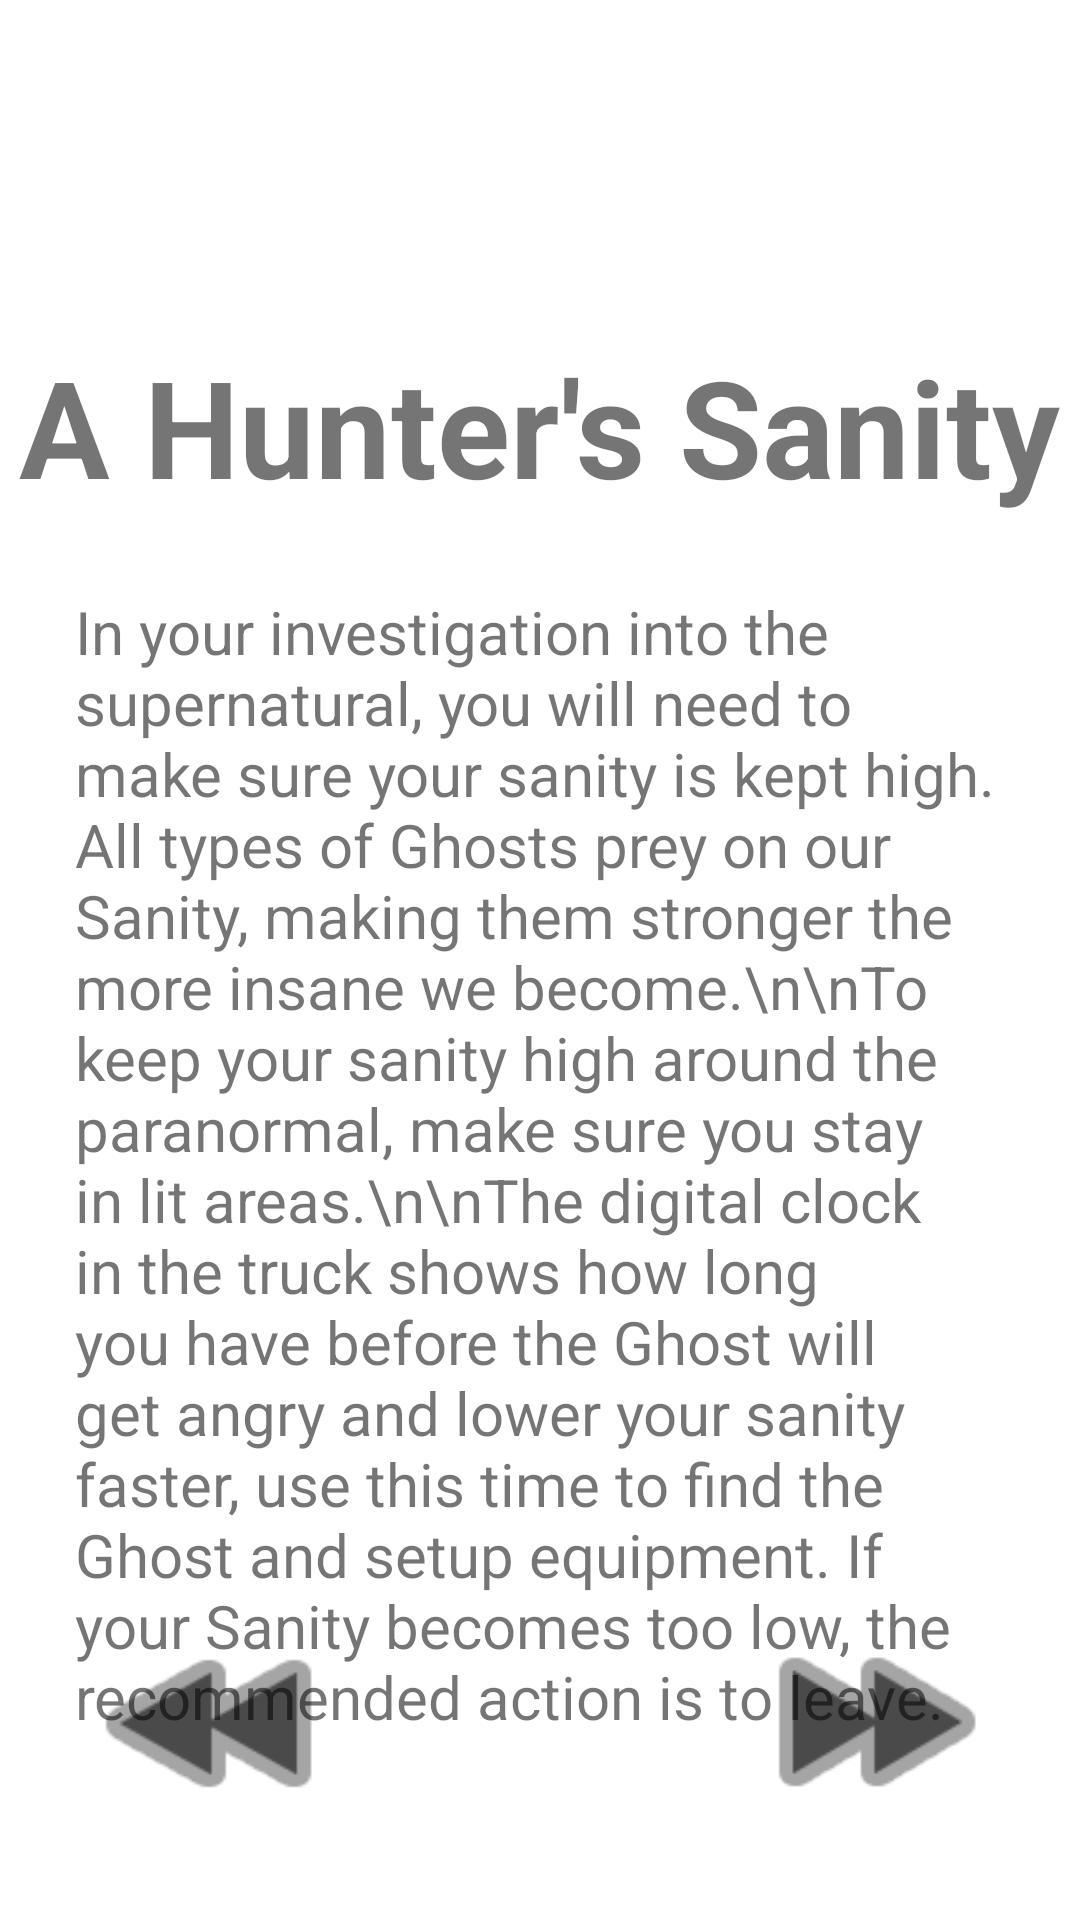

Icon click points for this 1080 x 1920 phone screenshot, format (x=x, y=y):
rew: (x=208, y=1696)
